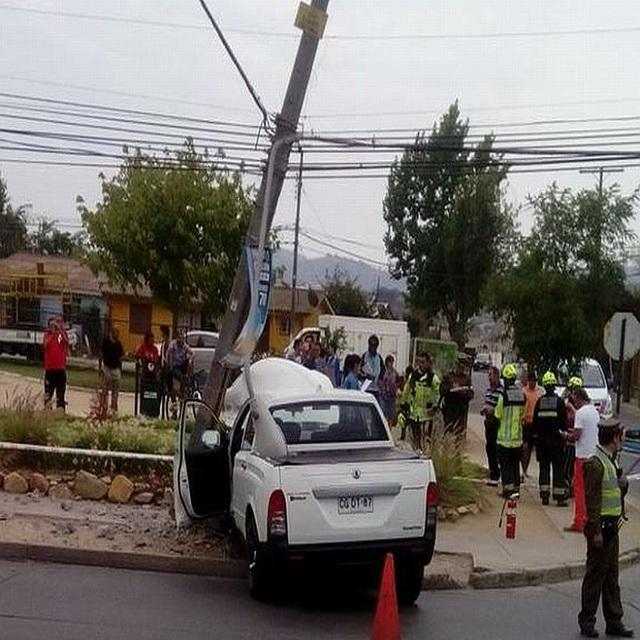Inclined Pole: (196, 0, 335, 418)
